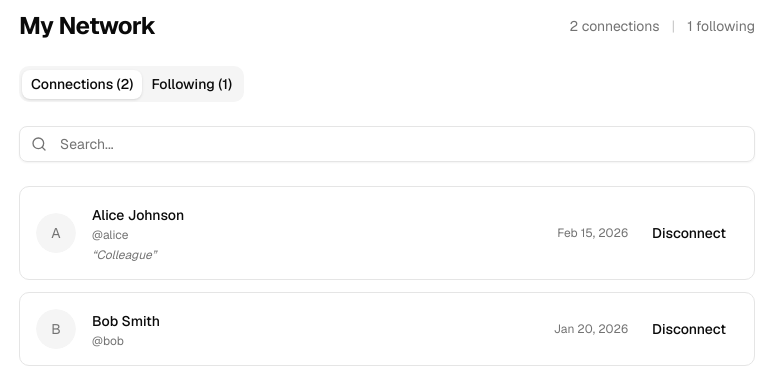
MyNetworkPage › shows empty state when no search results
This screenshot has width=775, height=383.
Type "zzzzz" into the field with placeholder "Search..." at (387, 144), box [19,126,755,162]
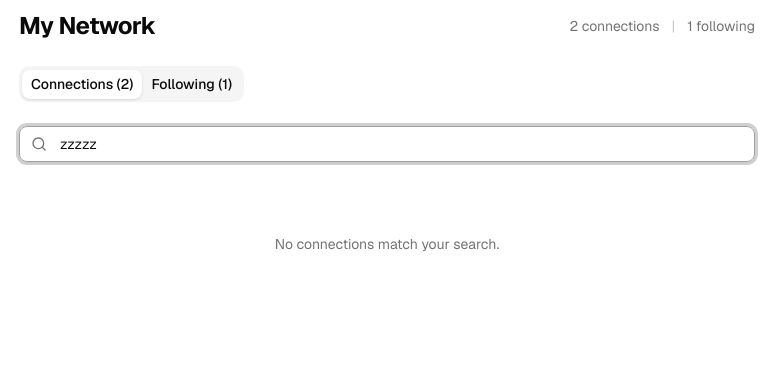
Expected: the text "No connections match your search." is shown, [275,235,499,253]
